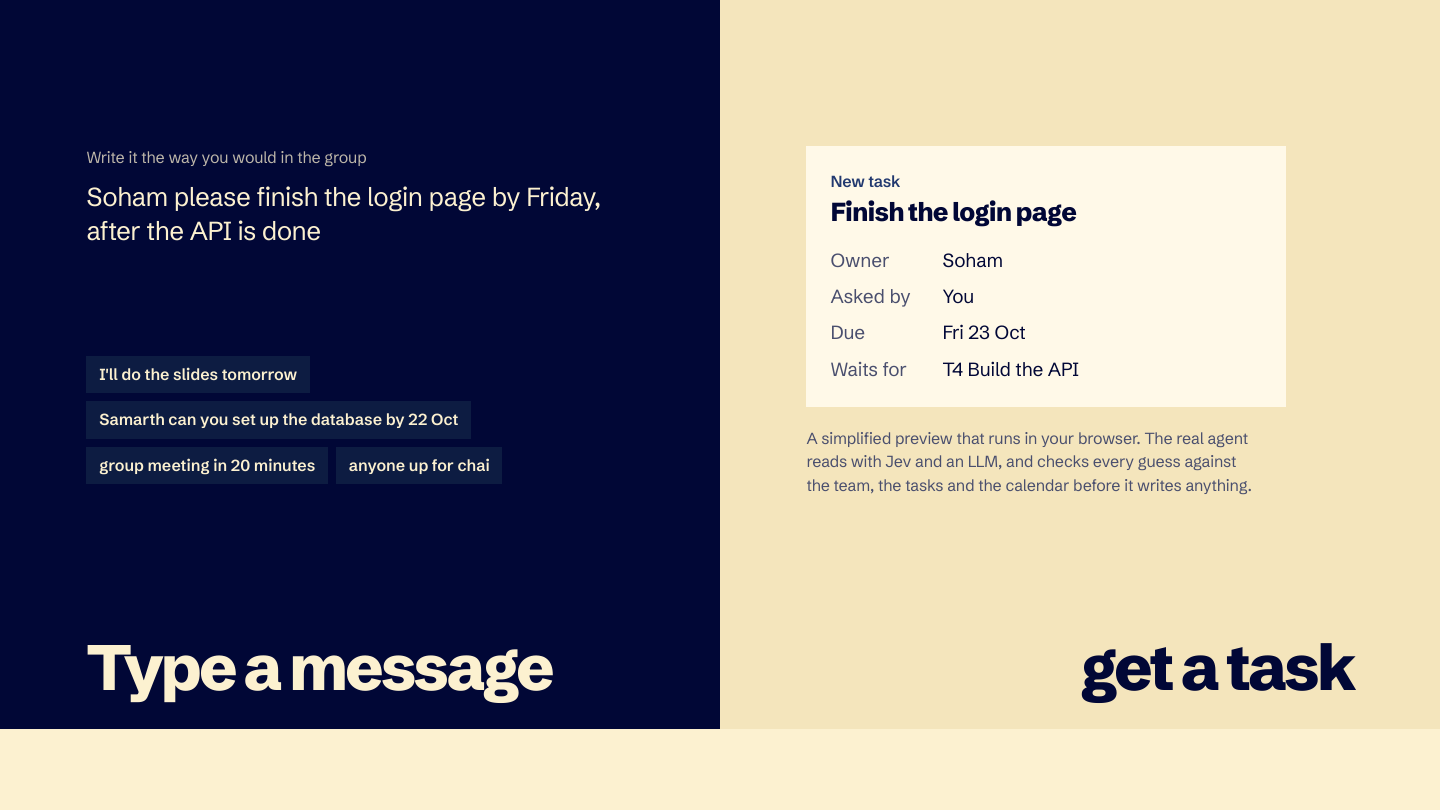
Test: Try it › turns the typed message into a task card
Expected: the element with test id "try-out" shows "Finish the login page", top-left (830, 196), bottom-right (1076, 228)
Replace the text in the text box labelled "Write it the way you would in the group" with "Samarth can you set up the database by 22 Oct" at (357, 249), box top-left (86, 181), bottom-right (627, 316)
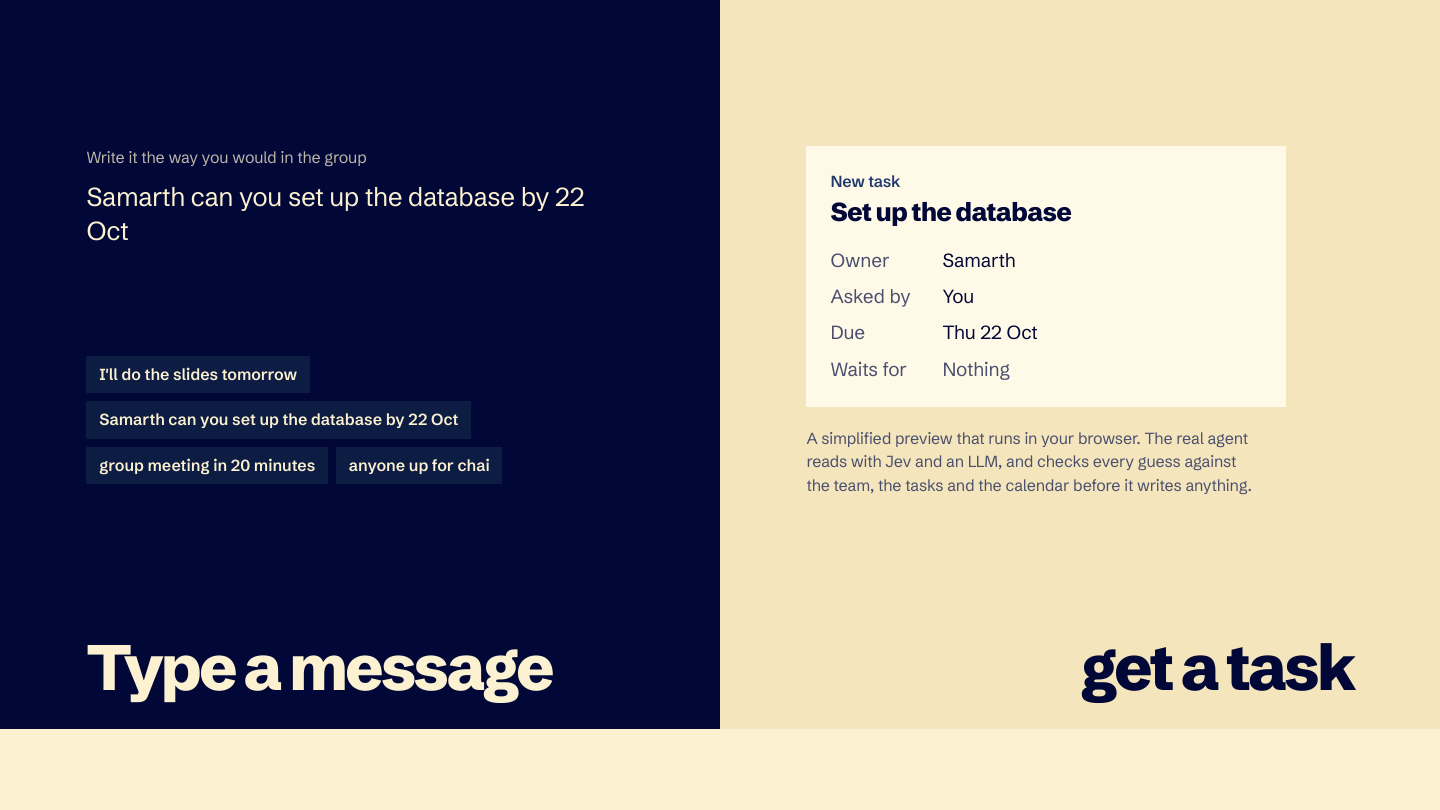
Result: the element with test id "try-out" shows "Set up the database" at top-left (830, 196), bottom-right (1071, 228)
Result: the element with test id "try-out" shows "Samarth" at top-left (942, 248), bottom-right (1015, 272)
Result: the element with test id "try-out" shows "Thu 22 Oct" at top-left (942, 320), bottom-right (1038, 344)
